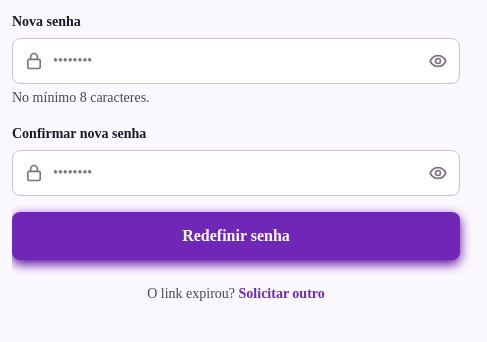
Test: ResetPasswordForm › shows field errors from the action
Type "longenough1" into the password field labelled "Nova senha".
click(236, 61); type("longenough1")  # box [12,38,460,84]
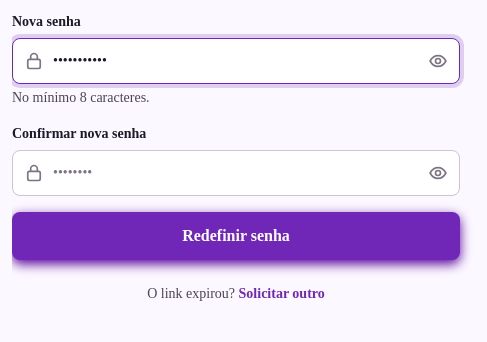
Type "different1" into the password field labelled "Confirmar nova senha".
click(236, 173); type("different1")  # box [12,150,460,196]
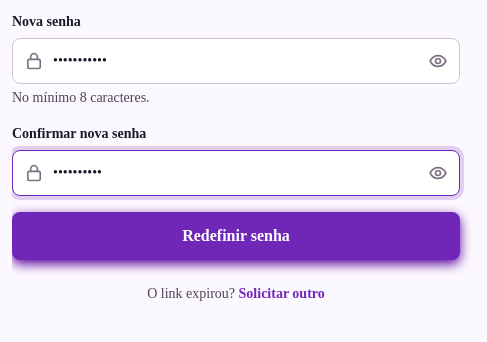
Click the button "Redefinir senha".
click(236, 236)  # box [12,212,460,260]
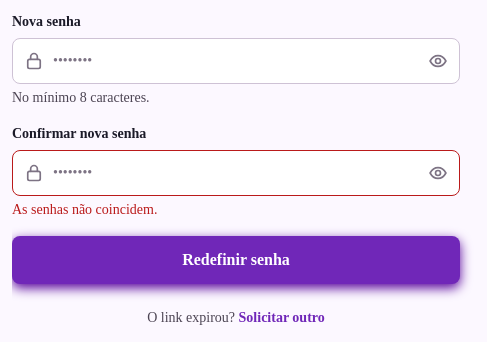
Expected: the text "As senhas não coincidem." is shown, [12,202,157,217]
